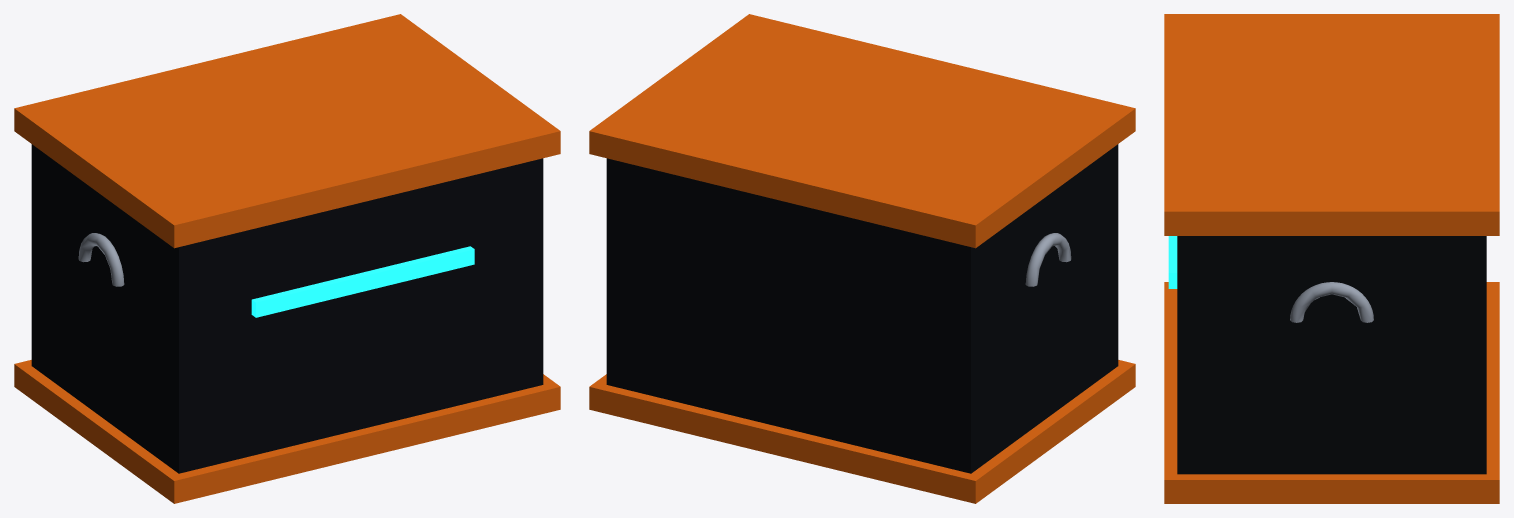
File: scifi-cargo-crate.glb
3 renders of one model, left to right at view 1: azimuth 30°, elevation 25°; view 2: azimuth 150°, elevation 25°; view 3: azimuth 270°, elevation 25°, orthographic. The views are drawn at different scales.
Visible parts, largest first — view 1: Body, Frame Top, Frame Bottom, Light Strip, Handle L; view 2: Body, Frame Top, Frame Bottom, Handle L; view 3: Frame Top, Body, Frame Bottom, Handle R, Light Strip.
Part boxes in pixels (x1,y1,x2,y2): Body: [31, 144, 543, 473]; Frame Top: [14, 14, 560, 248]; Frame Bottom: [14, 360, 560, 503]; Light Strip: [251, 246, 474, 317]; Handle L: [78, 233, 124, 286]; Body: [606, 144, 1118, 473]; Frame Top: [589, 14, 1135, 248]; Frame Bottom: [589, 360, 1135, 503]; Handle L: [1025, 233, 1071, 286]; Frame Top: [1164, 14, 1499, 235]; Body: [1177, 236, 1486, 474]; Frame Bottom: [1164, 282, 1499, 503]; Handle R: [1290, 282, 1373, 322]; Light Strip: [1168, 236, 1177, 288].
Size of the model in its own units: 1.06 by 0.73 by 0.76.
